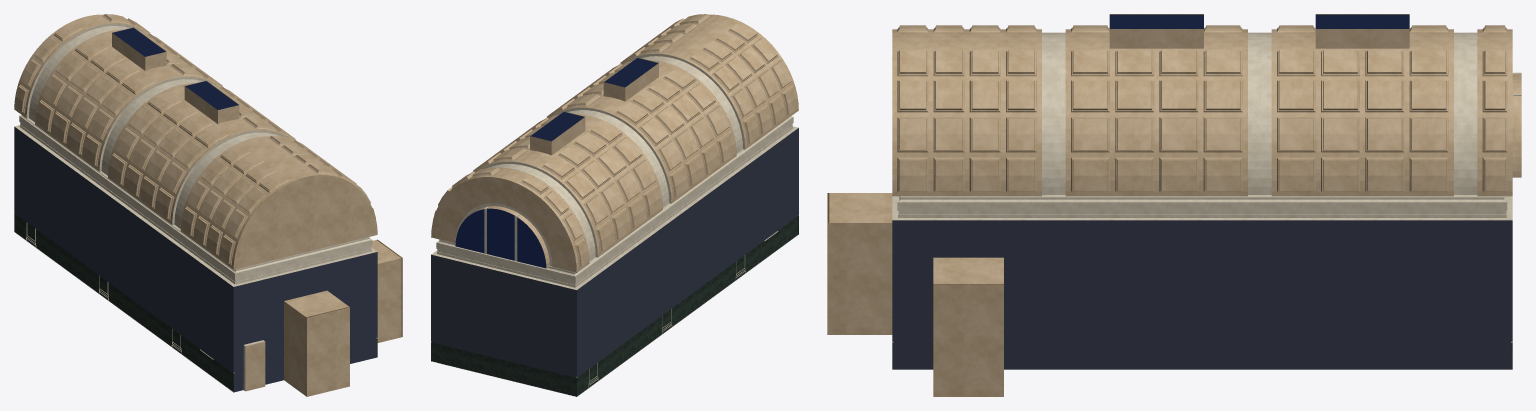
The model's file is sala.glb.
3 views of the same model, side by side, from view 1: azimuth 30°, elevation 25°; view 2: azimuth 150°, elevation 25°; view 3: azimuth 270°, elevation 25° (orthographic). The views are drawn at different scales.
Parts seen in each view (by area): view 1: muros, boveda, emisivos; view 2: muros, boveda, emisivos, suelo; view 3: muros, boveda, emisivos.
Boxes of the visible parts, left/top/right/bottom form: muros: left=14, top=15, right=401, bottom=396; boveda: left=14, top=14, right=377, bottom=269; emisivos: left=112, top=27, right=238, bottom=109; muros: left=431, top=15, right=798, bottom=396; boveda: left=431, top=14, right=798, bottom=272; emisivos: left=455, top=58, right=658, bottom=268; suelo: left=432, top=235, right=797, bottom=396; muros: left=827, top=72, right=1521, bottom=396; boveda: left=892, top=14, right=1512, bottom=196; emisivos: left=1109, top=14, right=1409, bottom=28.
Size of the model in its own units: 10.32 by 11.2 by 23.6.
Materials: 20 (8 with a texture image).
